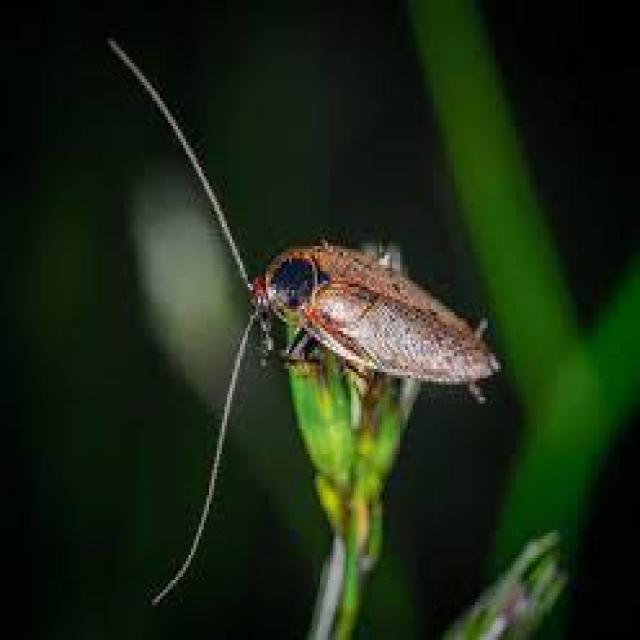Cockroach: (105, 20, 504, 601)
